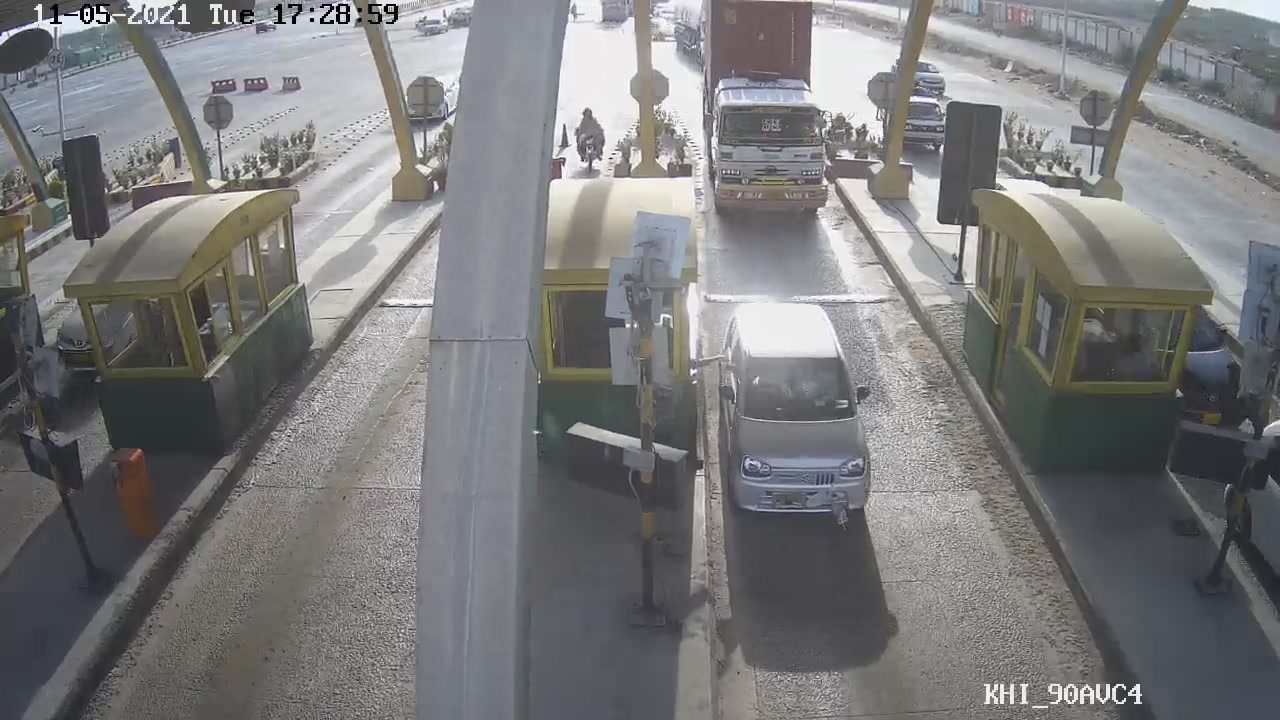F1: (713, 298, 886, 529)
F6: (692, 8, 850, 219)
